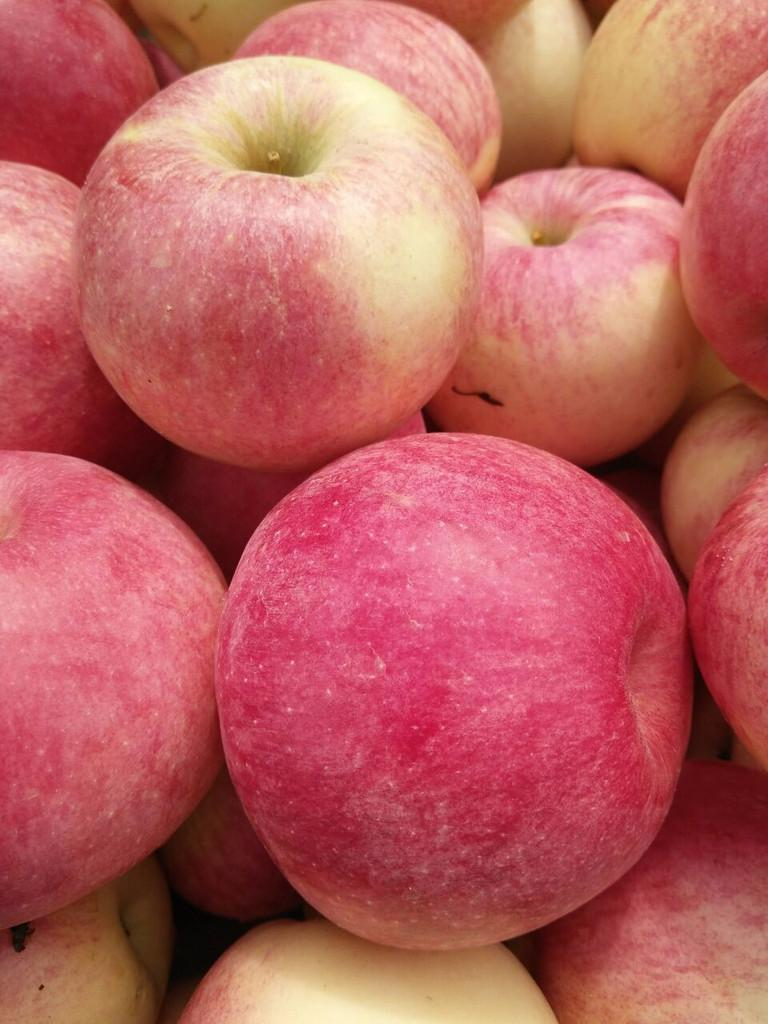apple: (212, 430, 705, 948), (67, 54, 488, 474), (4, 448, 240, 934), (523, 755, 768, 1017), (223, 11, 543, 192), (2, 162, 174, 487)
